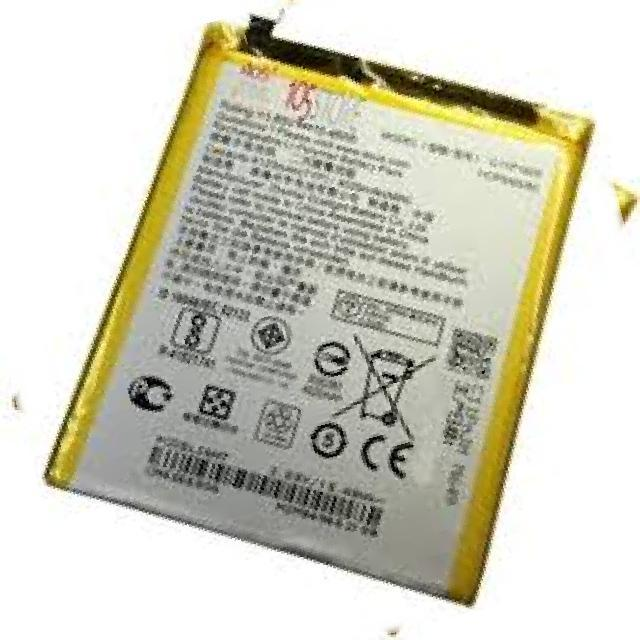Battery: (39, 16, 604, 602)
